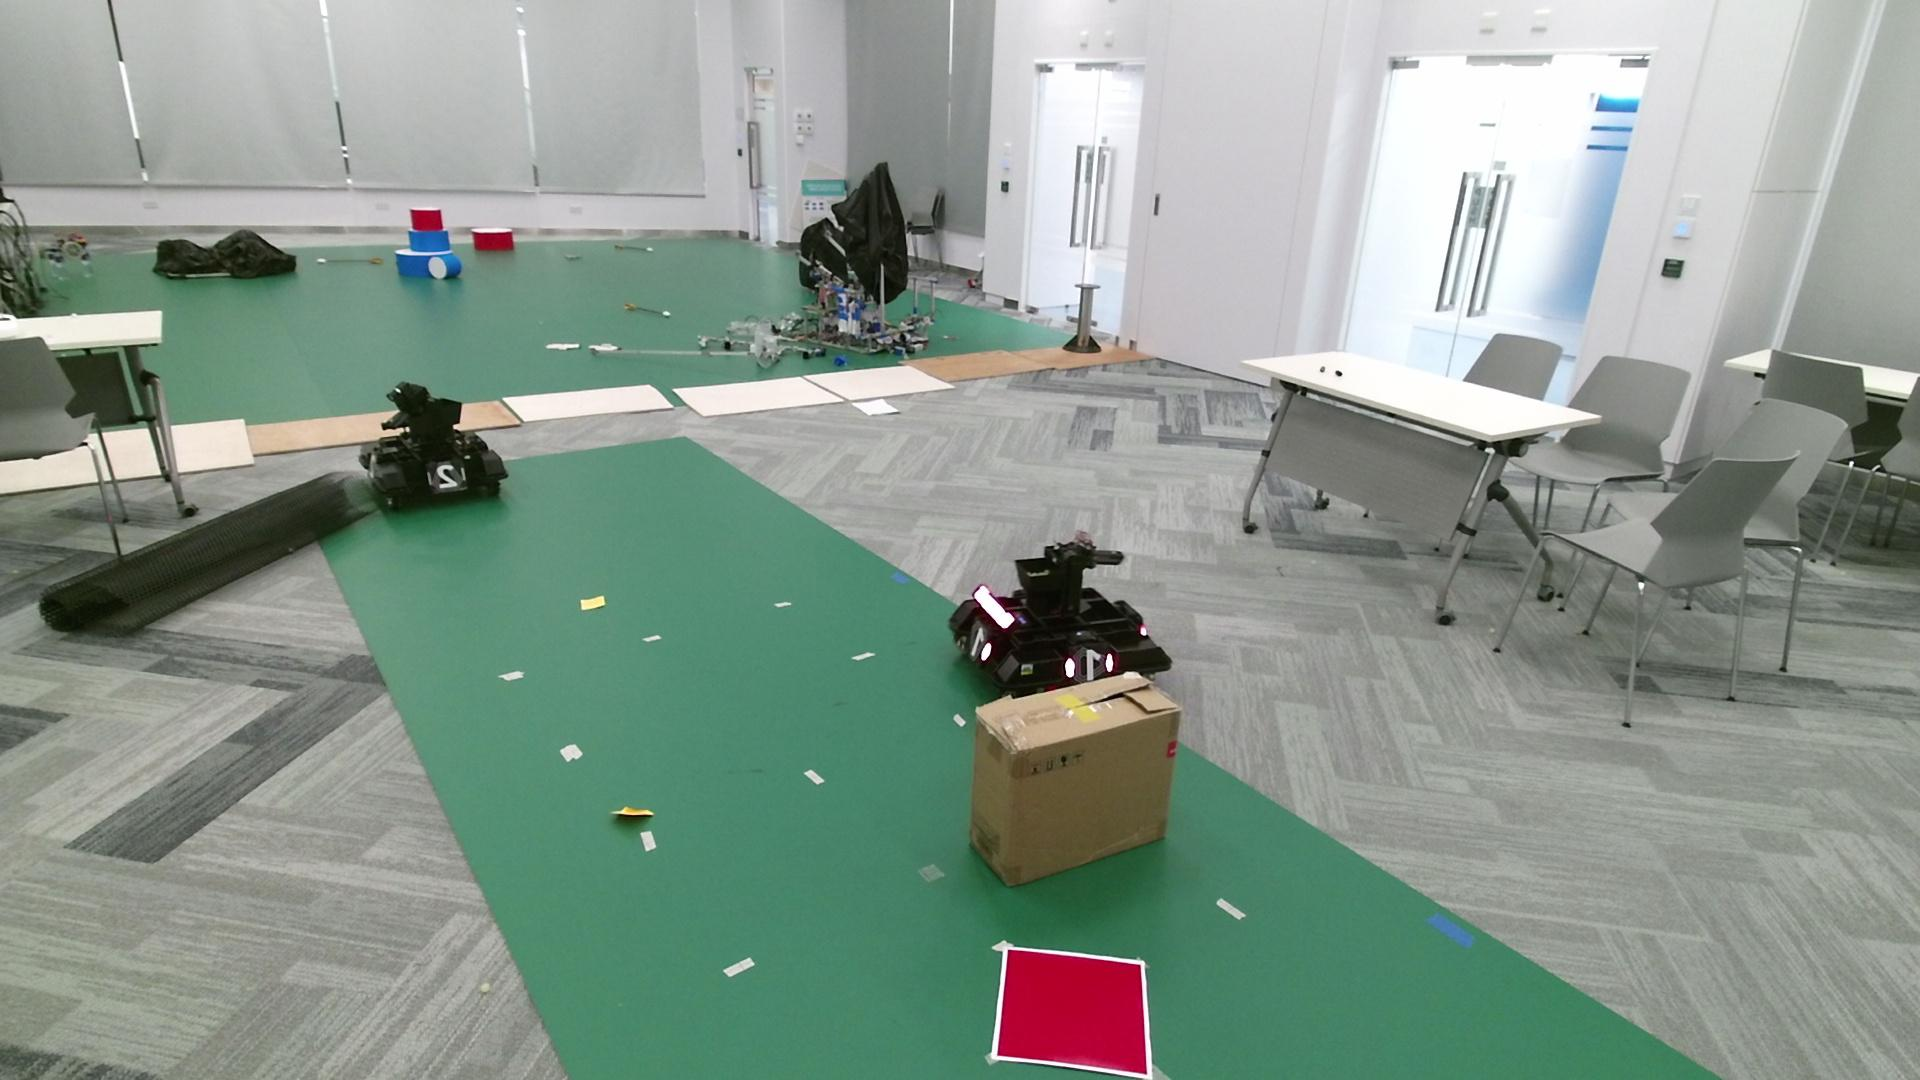robot: (945, 529, 1172, 694), (357, 380, 508, 509)
